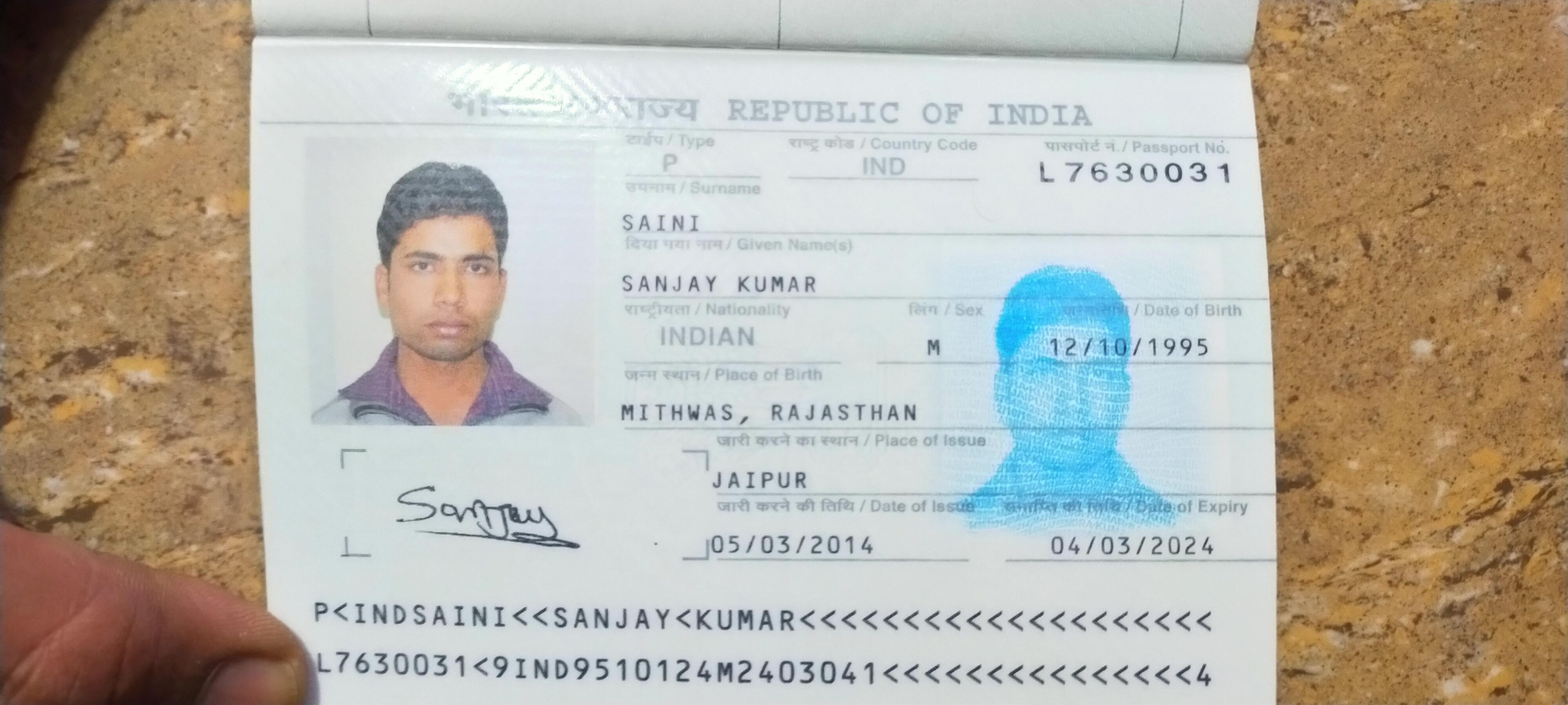DOB: (726, 153, 820, 240)
Surname: (447, 388, 534, 431)
country_code: (340, 294, 415, 322)
date_of_expiry: (1170, 153, 1263, 237)
date_of_issue: (1167, 307, 1265, 393)
details: (1308, 153, 1554, 569)
name: (589, 331, 668, 433)
nationality: (706, 360, 790, 414)
passport_no: (357, 148, 441, 244)
photo: (322, 442, 961, 563)
place_of_birth: (868, 284, 950, 433)
place_of_issue: (1019, 336, 1105, 391)
sex: (729, 276, 807, 294)
sign: (1063, 435, 1252, 538)
type: (322, 393, 393, 415)
